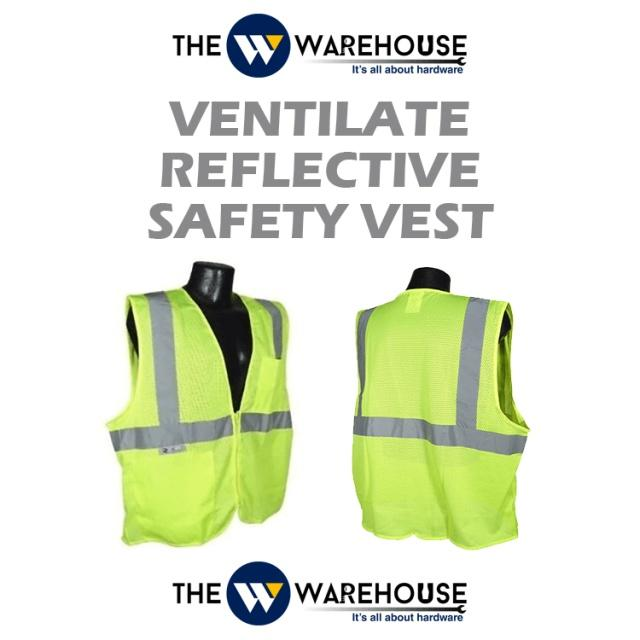vest: (105, 383, 292, 640), (351, 380, 527, 640)
